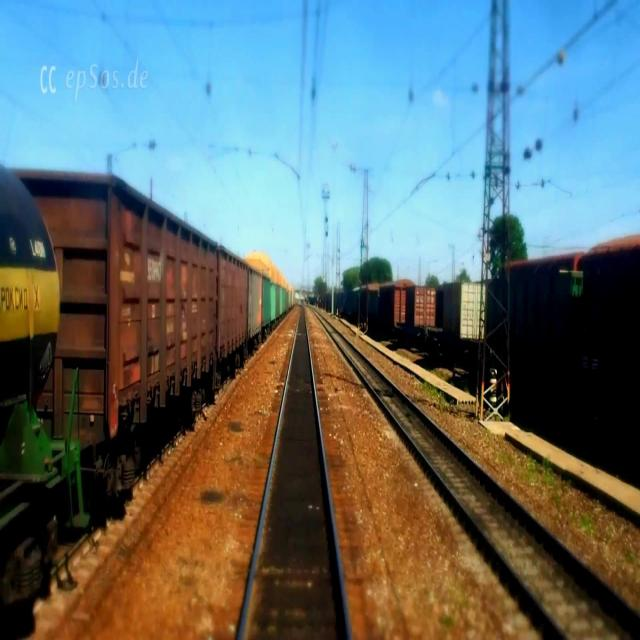rail-track: (321, 317, 640, 639), (243, 305, 346, 639)
